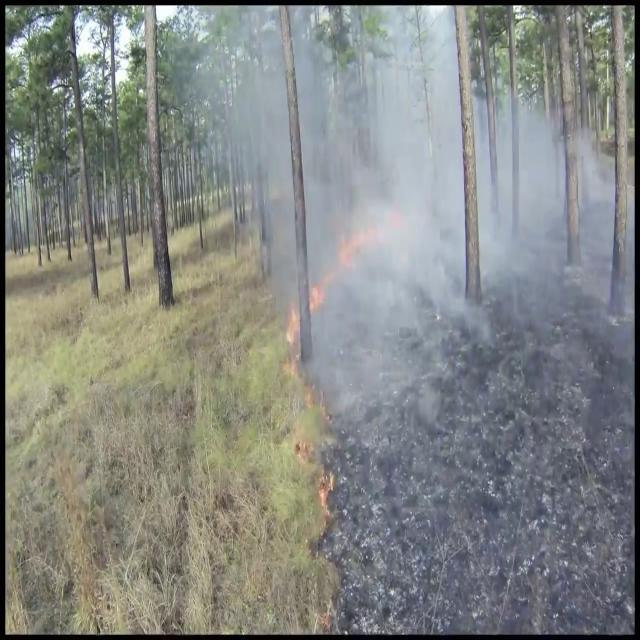Smoke: (222, 14, 628, 463)
